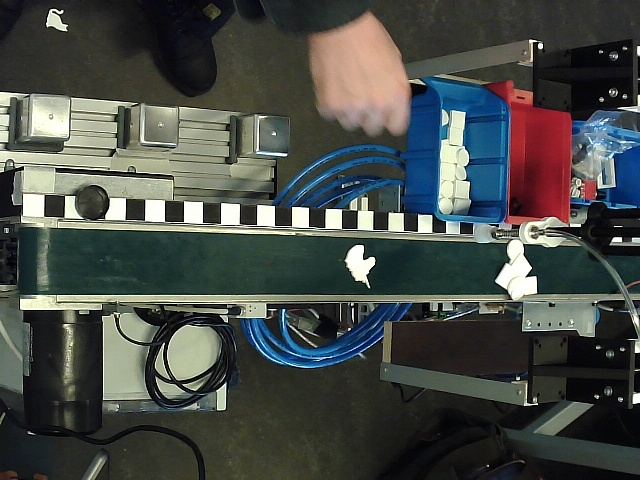unicorn: (344, 244, 378, 290)
